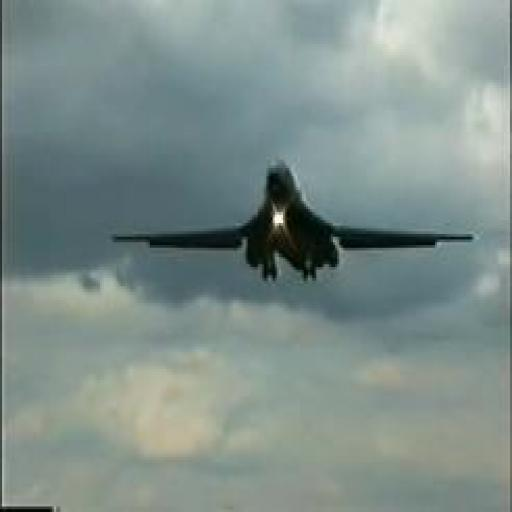aircraft: (112, 158, 479, 284)
